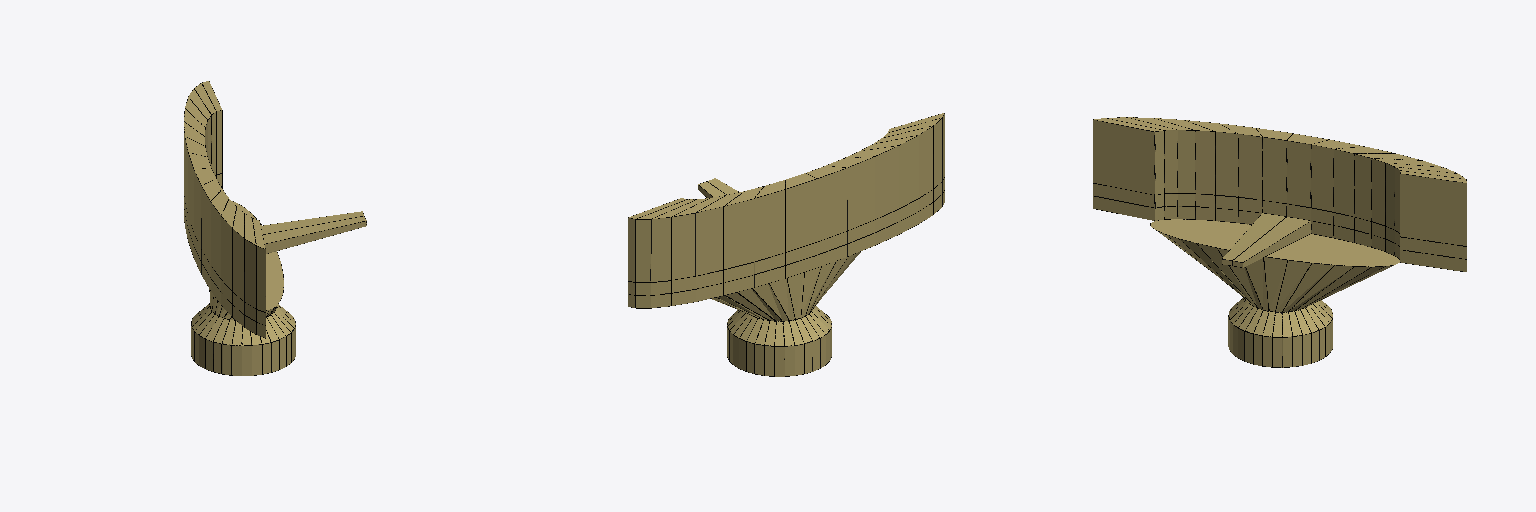
3 views of the same model, side by side, from view 1: azimuth 30°, elevation 25°; view 2: azimuth 150°, elevation 25°; view 3: azimuth 270°, elevation 25° (orthographic).
Visible parts, largest first — view 1: radar_Cylinder.001; view 2: radar_Cylinder.001; view 3: radar_Cylinder.001.
Part boxes in pixels (x1,y1,x2,y2): radar_Cylinder.001: (184, 81, 366, 375); radar_Cylinder.001: (628, 113, 944, 376); radar_Cylinder.001: (1093, 117, 1466, 367).
Bounding box in the file's own units: 0.7787 × 0.8022 × 1.42.
Materials: 1 (1 with a texture image).